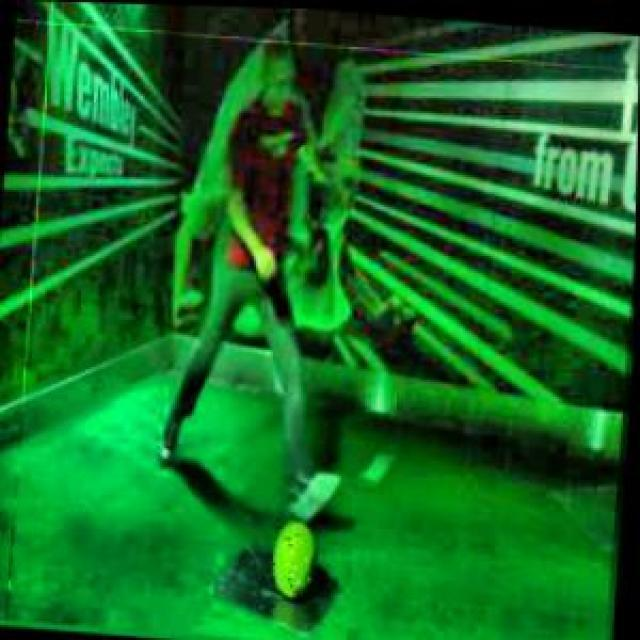tennis-ball: (272, 516, 319, 604)
